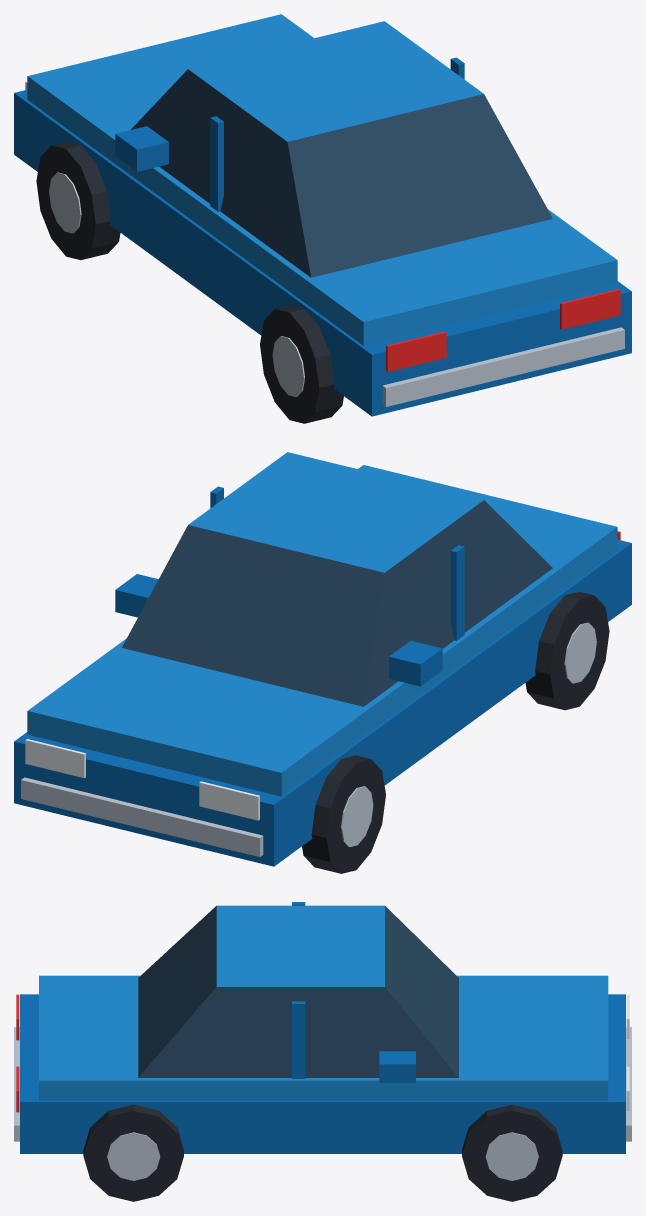
File: safepaths-sedan-v1.glb
The picture shows the model from 3 angles, top to bottom: view 1: azimuth 30°, elevation 25°; view 2: azimuth 150°, elevation 25°; view 3: azimuth 270°, elevation 25°; orthographic projection. The views are drawn at different scales.
Visible parts, largest first — view 1: SafePaths sedan - front negative Z; view 2: SafePaths sedan - front negative Z; view 3: SafePaths sedan - front negative Z.
Boxes of the visible parts, left/top/right/bottom form: SafePaths sedan - front negative Z: left=14, top=14, right=631, bottom=423; SafePaths sedan - front negative Z: left=14, top=452, right=631, bottom=873; SafePaths sedan - front negative Z: left=14, top=902, right=631, bottom=1201.
Bounding box in the file's own units: 2.02 × 1.46 × 4.18.
